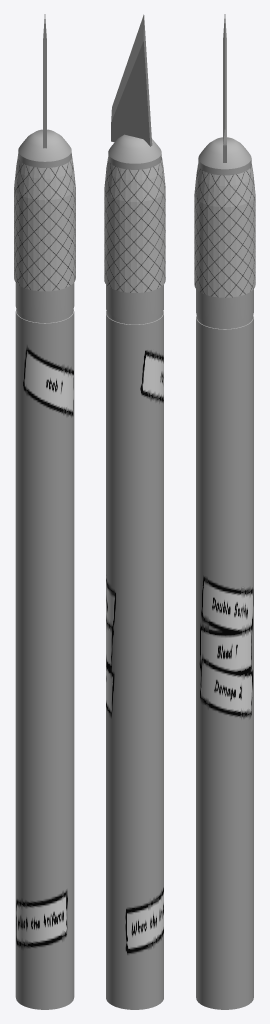
The model's file is XActoKnife.fbx.
3 views of the same model, side by side, from view 1: azimuth 90°, elevation 25°; view 2: azimuth 150°, elevation 25°; view 3: azimuth 270°, elevation 25° (orthographic).
Parts seen in each view (by area): view 1: MainBit, GripBit, Blade; view 2: MainBit, GripBit, Blade; view 3: MainBit, GripBit, Blade.
Boxes of the visible parts, x1=… form: MainBit: x1=15, y1=129, x2=74, y2=1009; GripBit: x1=14, y1=156, x2=75, y2=291; Blade: x1=43, y1=14, x2=46, y2=148; MainBit: x1=106, y1=134, x2=163, y2=1009; GripBit: x1=104, y1=157, x2=165, y2=292; Blade: x1=111, y1=14, x2=152, y2=146; MainBit: x1=196, y1=137, x2=253, y2=1009; GripBit: x1=194, y1=164, x2=255, y2=297; Blade: x1=223, y1=14, x2=226, y2=162.
Bounding box in the file's own units: 73.37 × 1296 × 73.37.
Materials: 3 (3 with a texture image).
